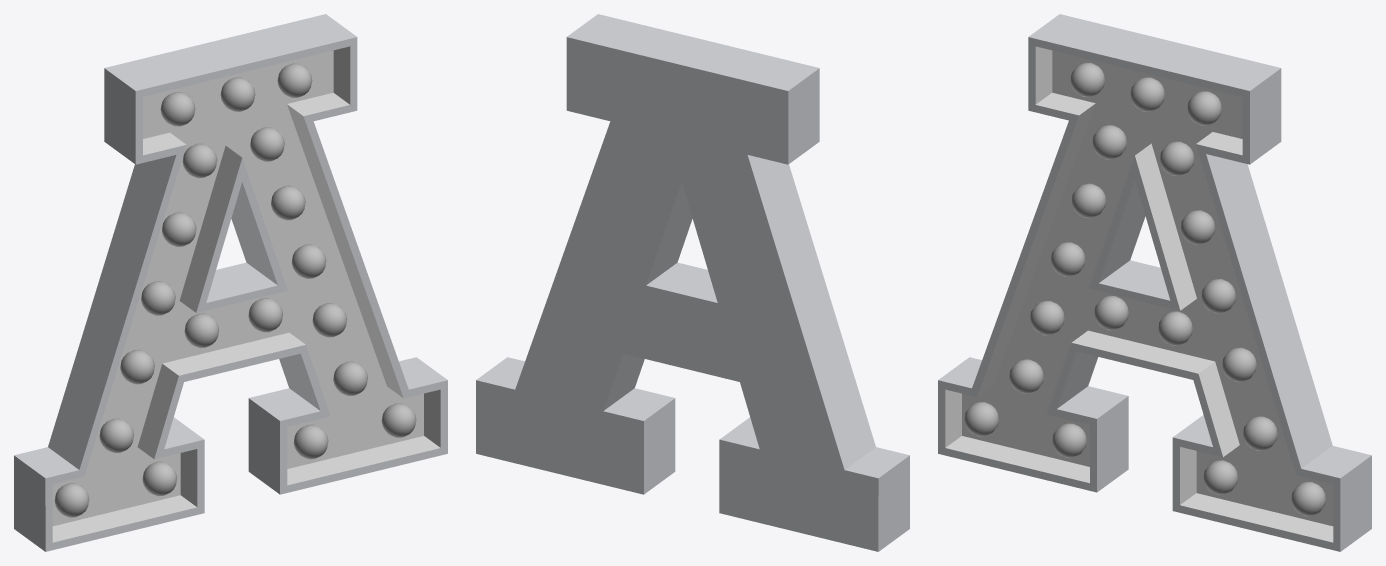
The model's file is LettersBulb01_A.FBX.
3 renders of one model, left to right at view 1: azimuth 30°, elevation 25°; view 2: azimuth 150°, elevation 25°; view 3: azimuth 330°, elevation 25°, orthographic.
Visible parts, largest first — view 1: LettersBulb01_A; view 2: LettersBulb01_A; view 3: LettersBulb01_A.
Part boxes in pixels (x1,y1,x2,y2): LettersBulb01_A: (14, 14, 447, 551); LettersBulb01_A: (476, 14, 909, 551); LettersBulb01_A: (938, 14, 1371, 551).
Size of what is drawn, in the model's own units: 1.15 by 1.2 by 0.1563.
